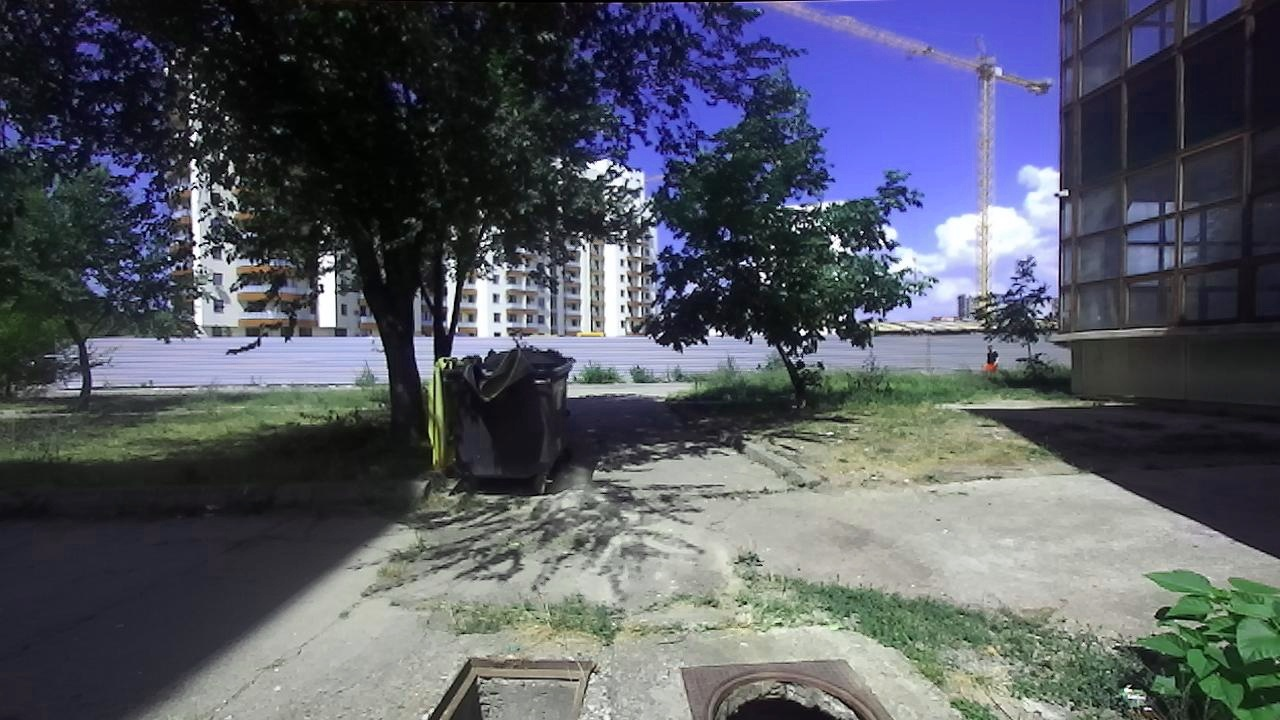drain: (422, 655, 595, 719), (696, 667, 887, 718)
